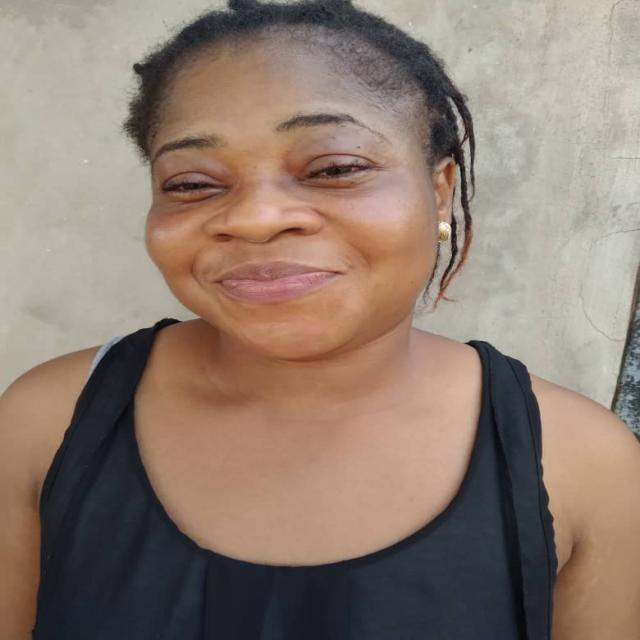happy: (132, 18, 450, 364)
